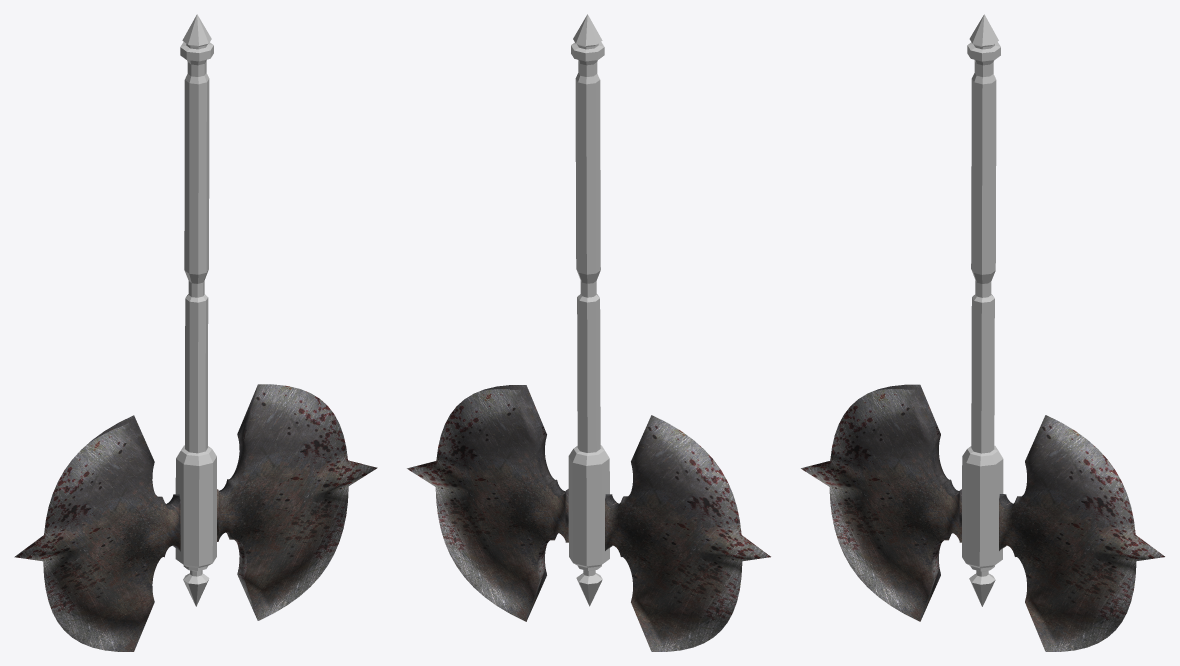
The model's file is DOUBLE SIDED AXE2.fbx.
The picture shows the model from 3 angles, left to right: view 1: azimuth 30°, elevation 25°; view 2: azimuth 150°, elevation 25°; view 3: azimuth 330°, elevation 25°; orthographic projection.
Parts seen in each view (by area): view 1: BezierCurve.000, Circle; view 2: BezierCurve.000, Circle; view 3: BezierCurve.000, Circle.
Boxes of the visible parts, x1=… form: BezierCurve.000: x1=14, y1=384, x2=377, y2=651; Circle: x1=175, y1=14, x2=216, y2=606; BezierCurve.000: x1=407, y1=385, x2=770, y2=651; Circle: x1=568, y1=14, x2=609, y2=606; BezierCurve.000: x1=801, y1=384, x2=1164, y2=651; Circle: x1=962, y1=14, x2=1003, y2=606.
Bounding box in the file's own units: 2573 × 4200 × 236.
